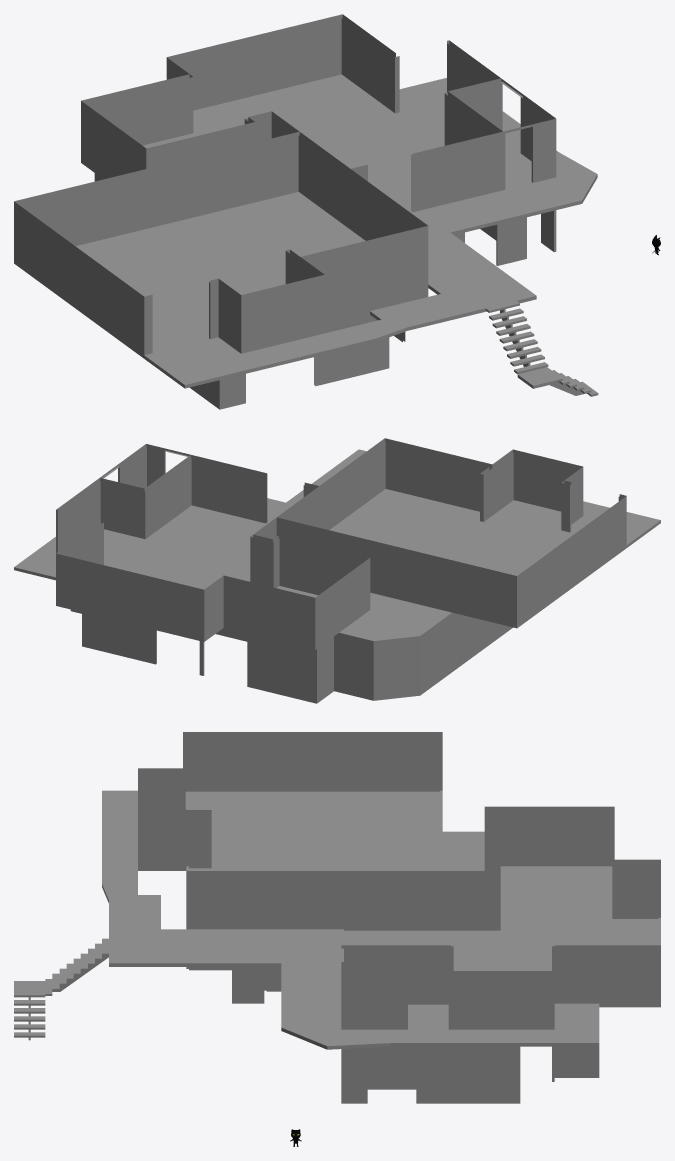
Rendered from AllinOne.FBX.
3 views of the same model, one above another, from view 1: azimuth 30°, elevation 25°; view 2: azimuth 150°, elevation 25°; view 3: azimuth 270°, elevation 25° (orthographic). The views are drawn at different scales.
Parts seen in each view (by area): view 1: 2F_Floor; view 2: 2F_Floor; view 3: 2F_Floor.
Boxes of the visible parts, x1,y1,x2,y2 form: 2F_Floor: [14, 14, 660, 409]; 2F_Floor: [14, 438, 660, 703]; 2F_Floor: [14, 732, 660, 1146].
Size of the model in its own units: 1006 by 231 by 987.
4 materials, 1 textured.
